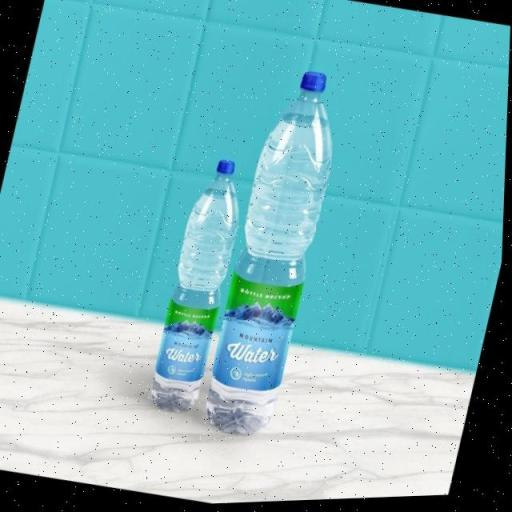plastic: (195, 62, 356, 447), (146, 153, 258, 422)
